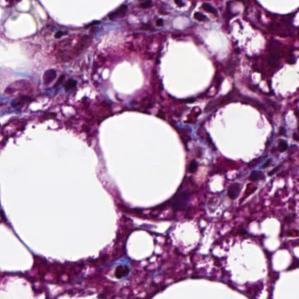inflammation: (224, 165, 269, 210), (40, 66, 81, 99), (189, 1, 221, 26), (108, 259, 134, 282)
